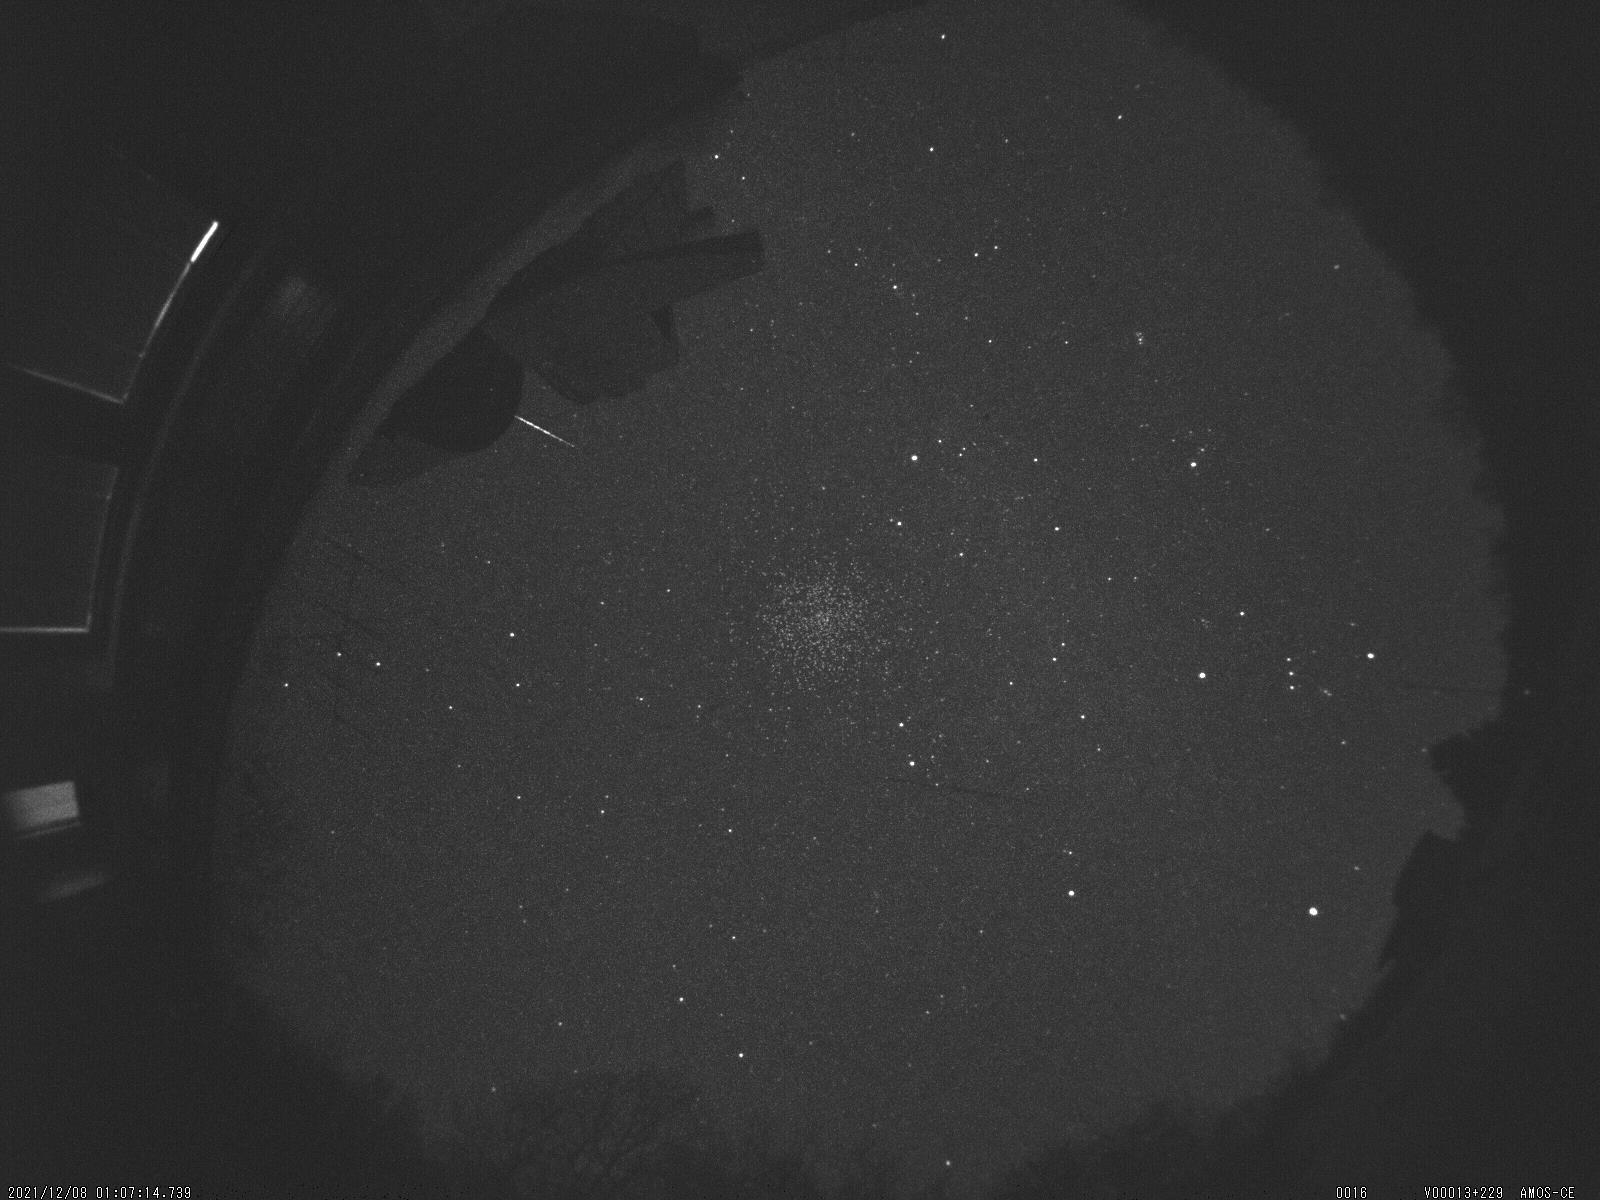Meteor: (506, 406, 592, 458)
